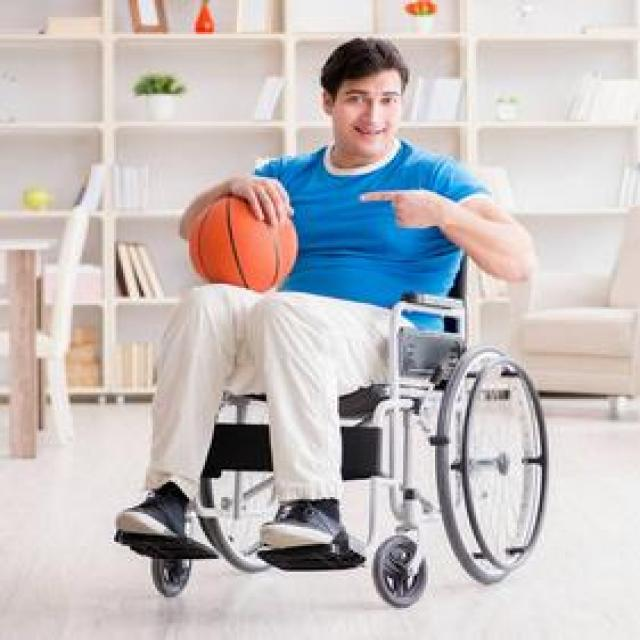wheelchairs: (144, 236, 566, 610)
